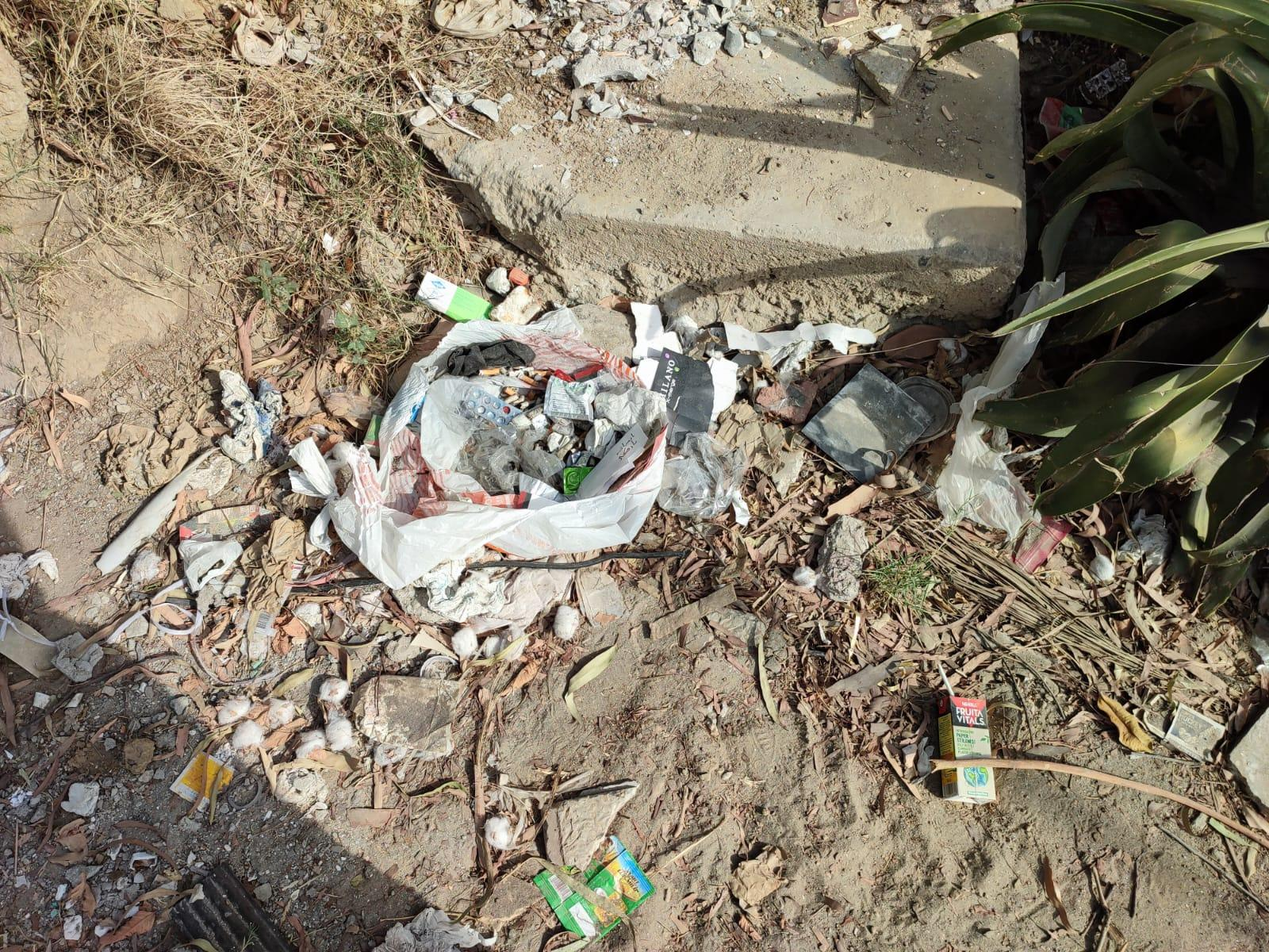garbage: (203, 236, 805, 640)
